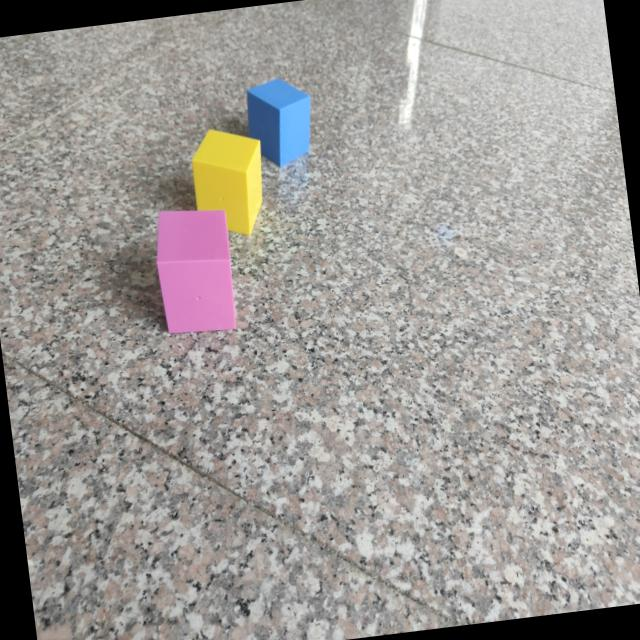blue: (246, 78, 312, 169)
pink: (155, 210, 237, 336)
yellow: (191, 131, 263, 236)
